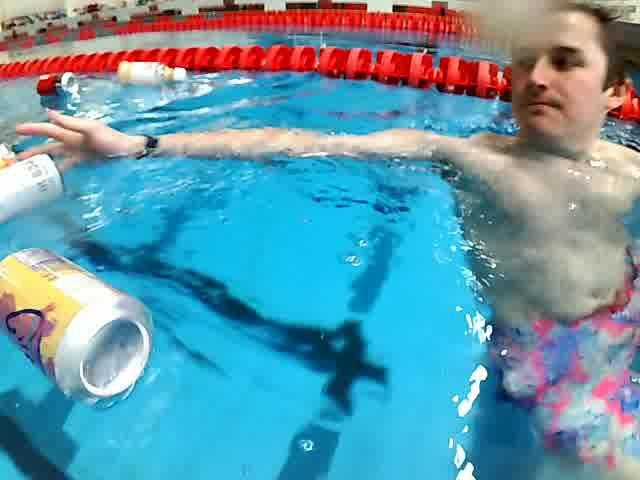Bottle: (112, 58, 194, 89)
Can: (0, 242, 160, 420), (0, 148, 76, 221), (34, 66, 84, 103)
